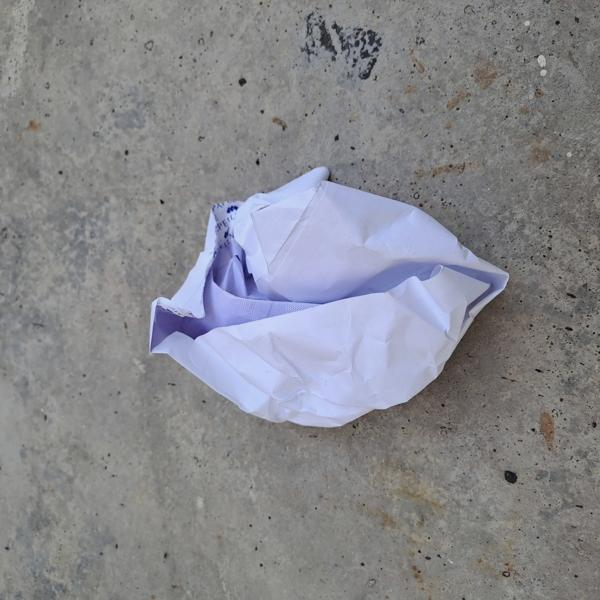Organik: (131, 147, 533, 433)
